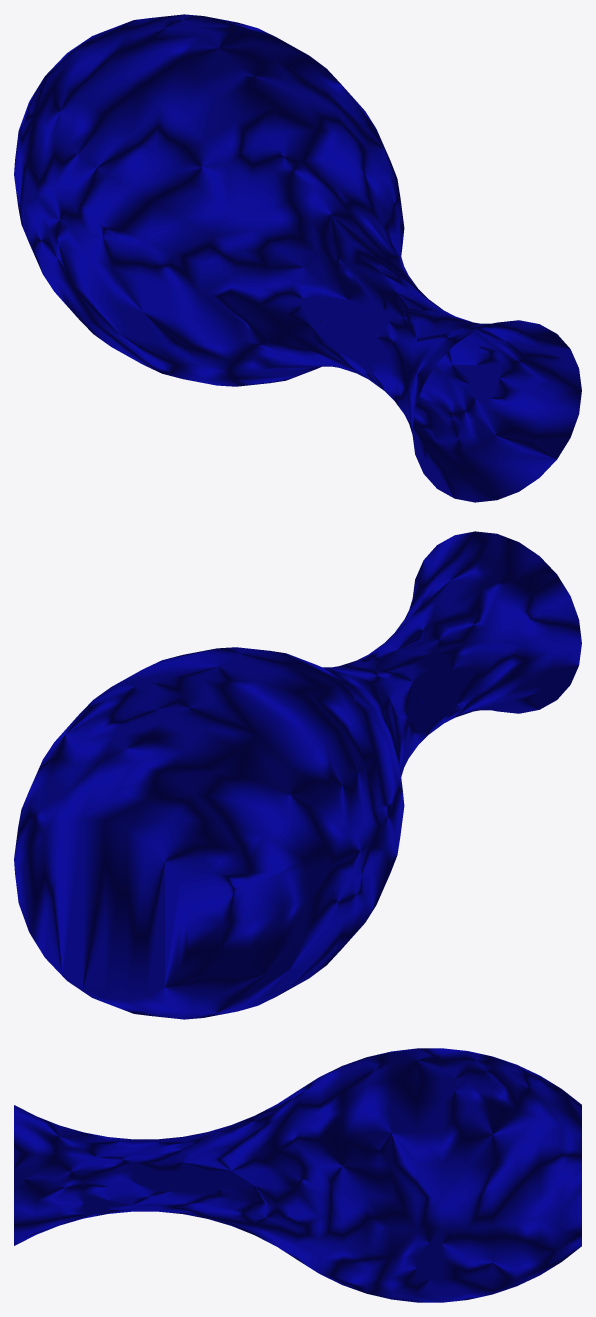
File: model_align.obj
3 renders of one model, top to bottom at view 1: azimuth 30°, elevation 25°; view 2: azimuth 150°, elevation 25°; view 3: azimuth 270°, elevation 25°, orthographic. The views are drawn at different scales.
Bounding box in the file's own units: 0.1109 × 0.1109 × 0.2466.
